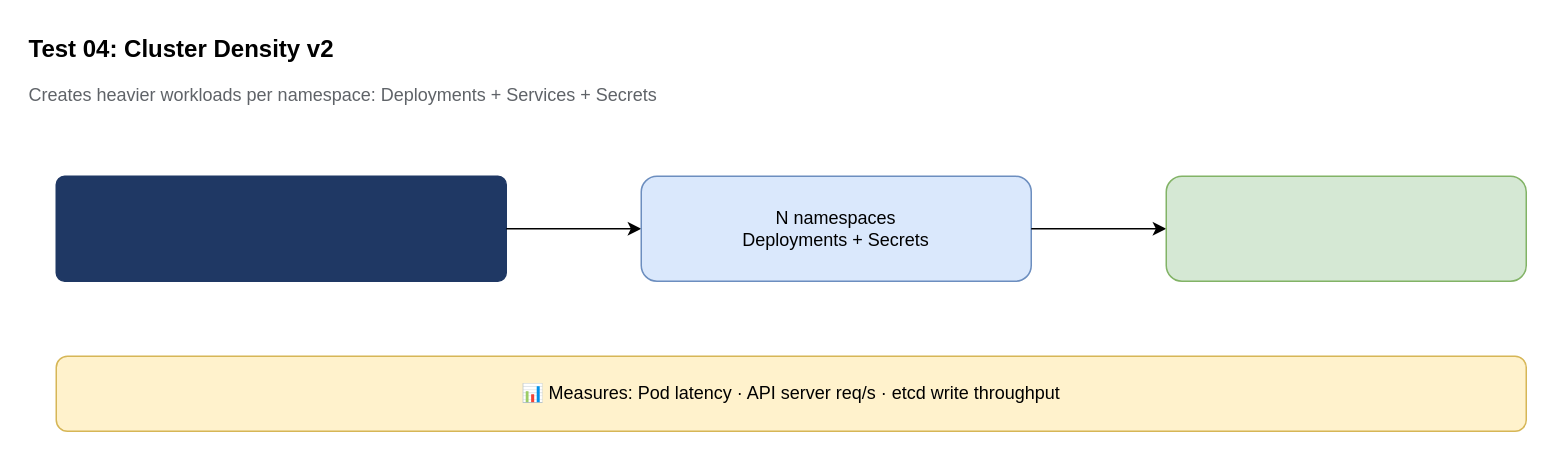
Some shapes in this 1553 by 458 pixel diagram are drawn without their labels. The centre of each missing label's shape, as x and y in pixels:
etcd write throughput controller queue depth: (1345,228)
kube-burner Job (quay.io/kube-burner/kube-burner:v2.6.1): (280,228)
